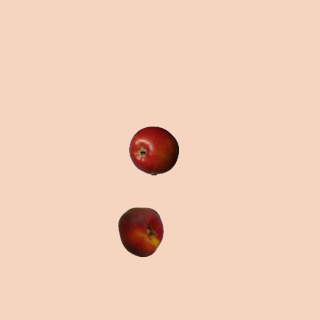Apple Braeburn: (128, 125, 178, 175)
Nectarine Flat: (115, 206, 165, 256)
